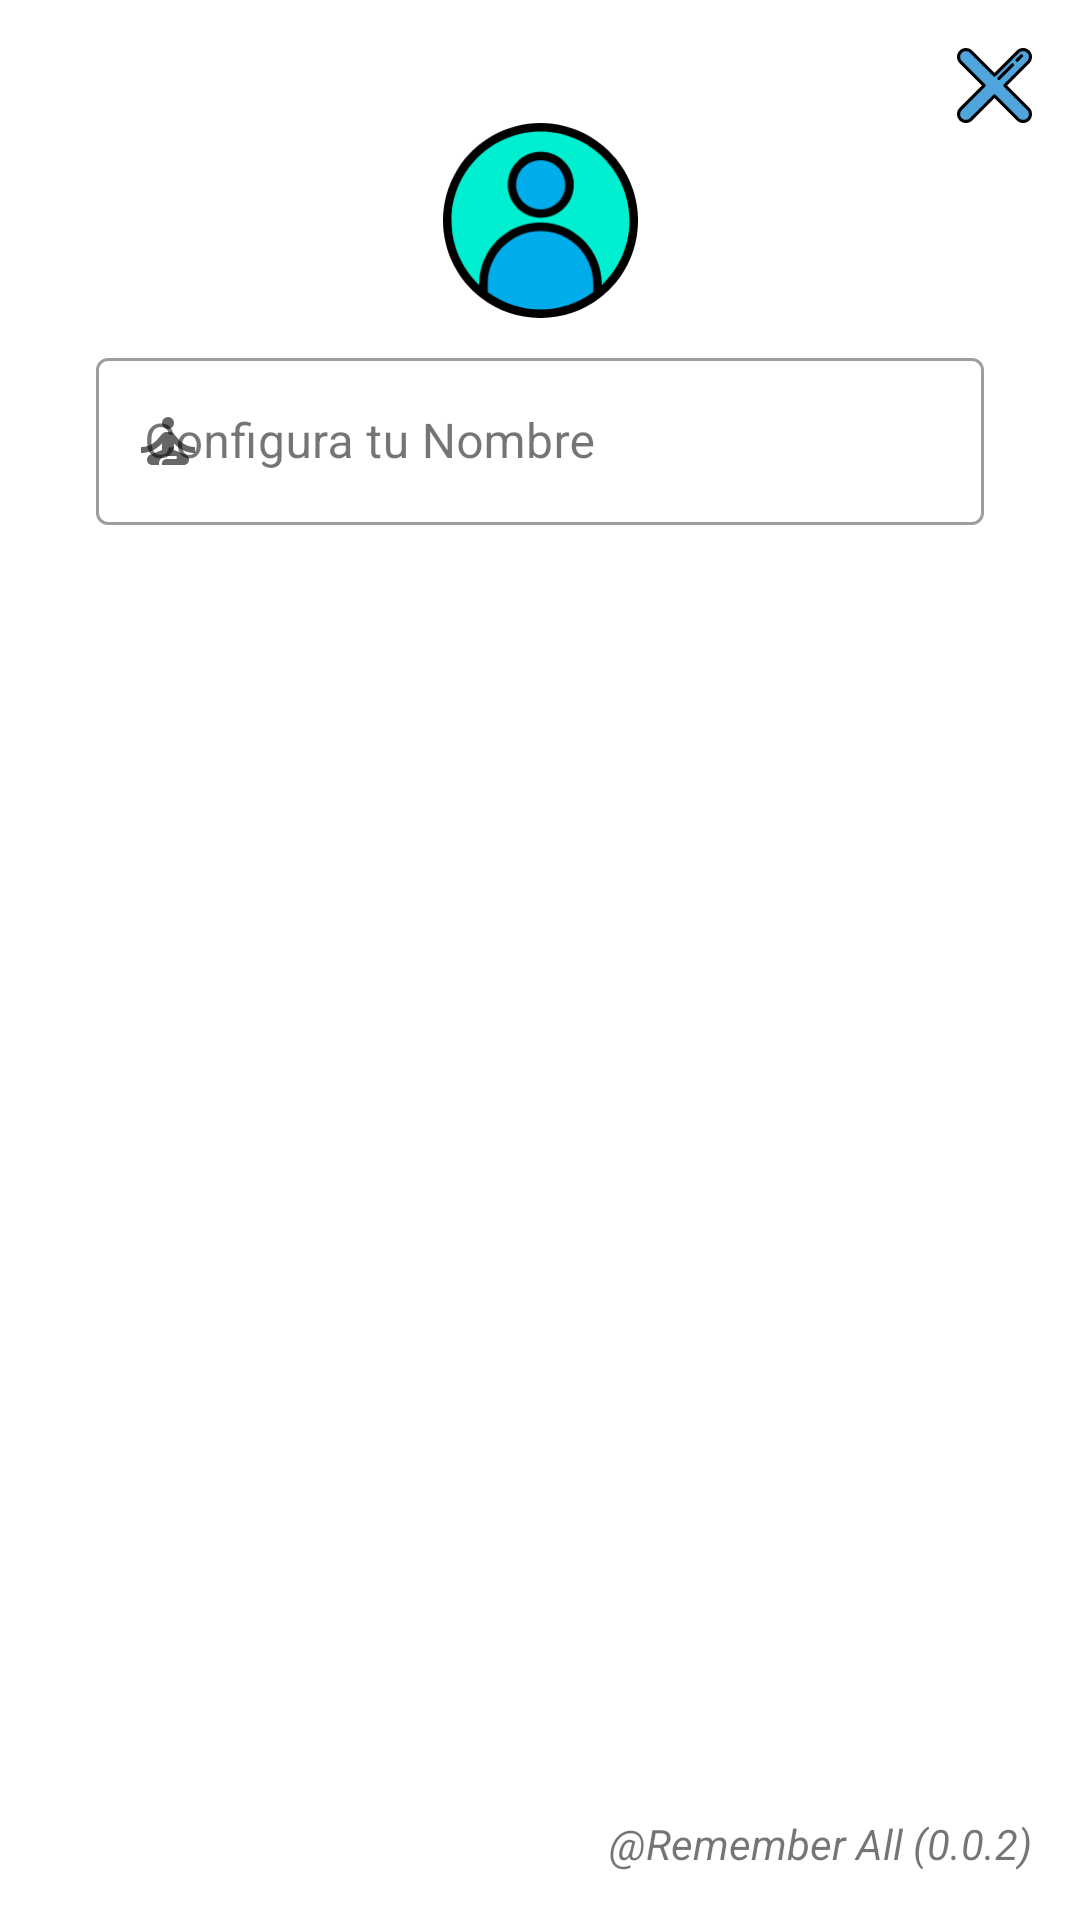

Icon click points for this 1080 x 1920 phone screenshot, format point (x, y):
close menu: point (994, 85)
picture profile: point (540, 220)
